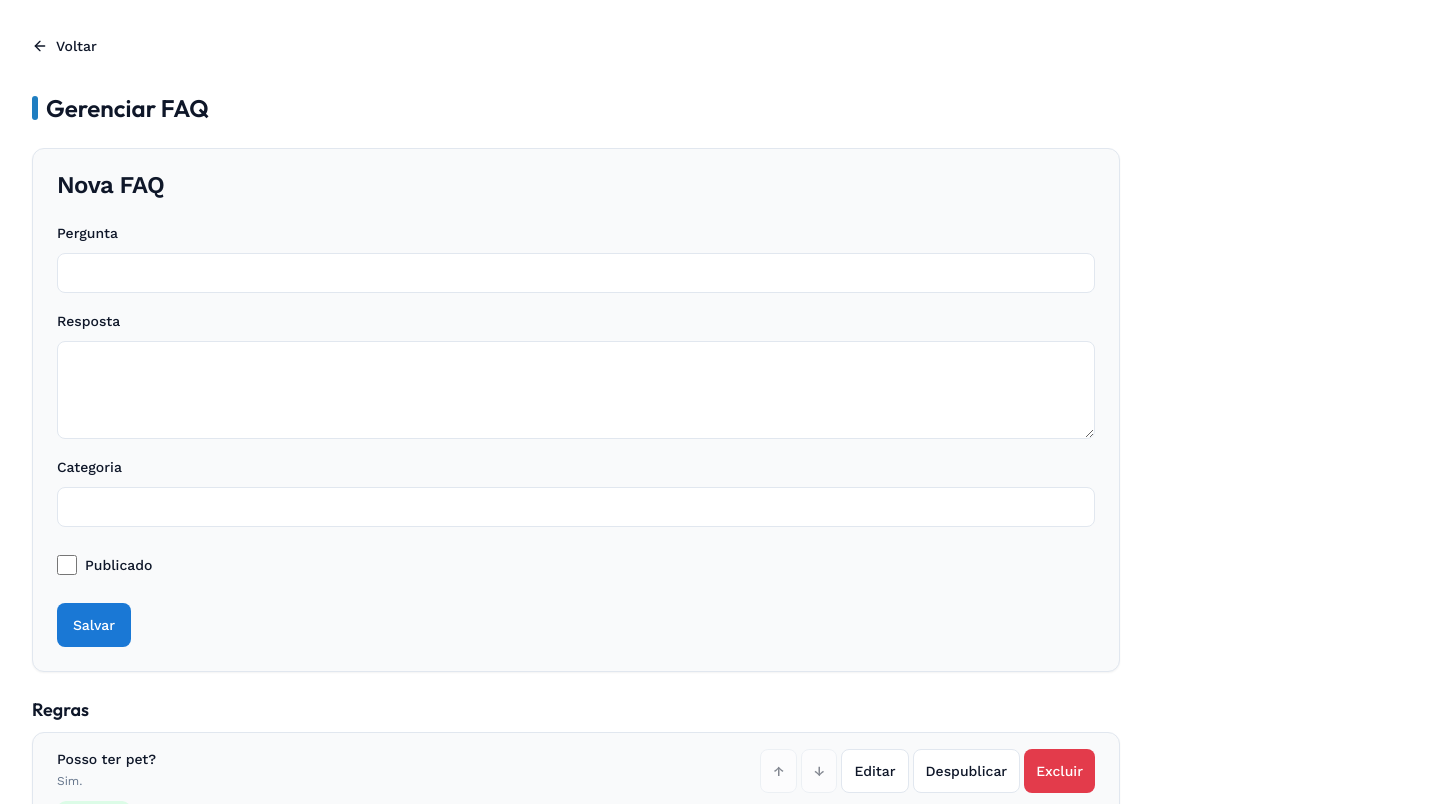
Test: FaqAdminPage › Editar preenche o formulário com os dados do item
The image size is (1440, 804).
expect the text "Posso ter pet?" is shown: met, box [57,751,156,767]
Step 1. Click the button "Editar" → (875,771), box [842,749,909,793]
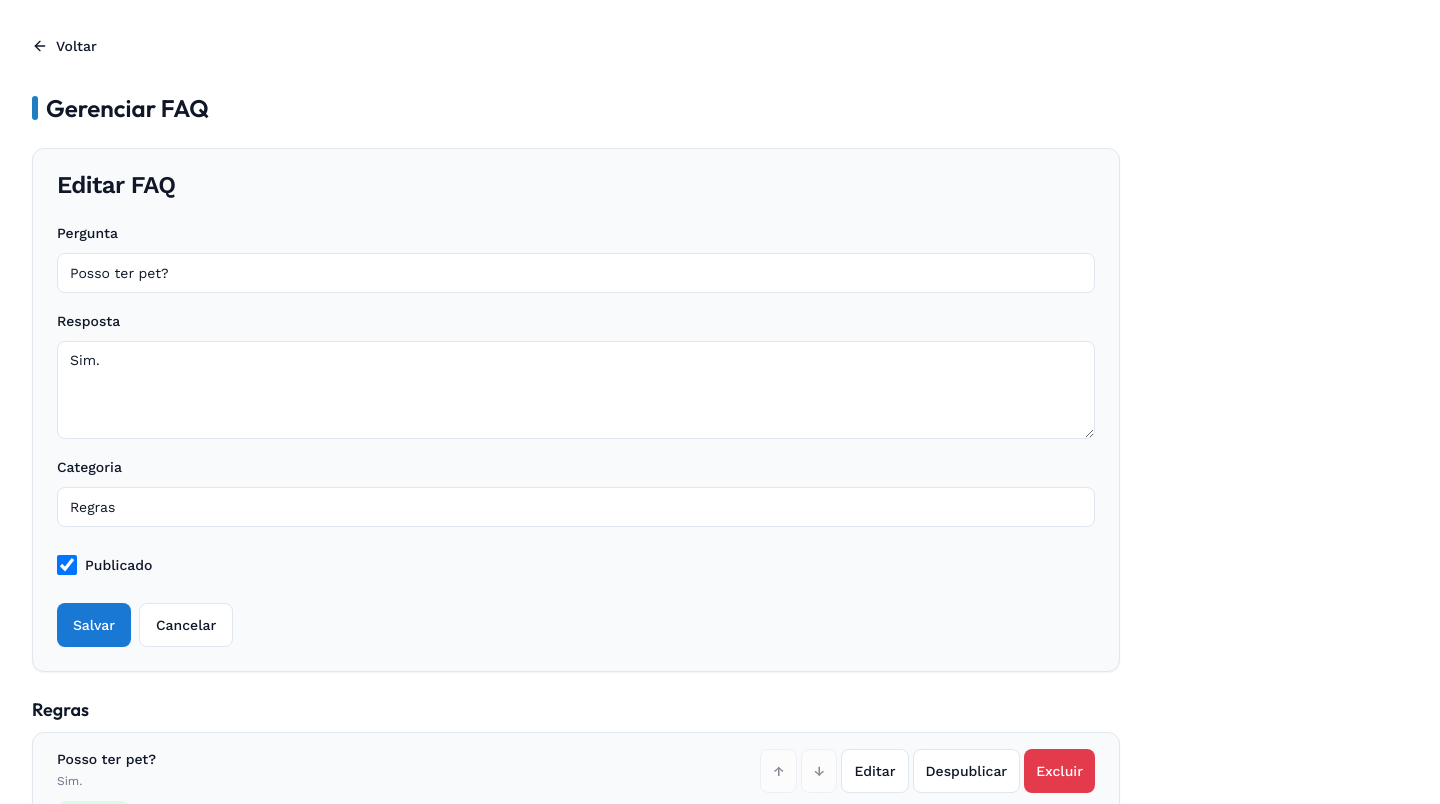
expect the field labelled "Pergunta" holds "Posso ter pet?": met, box [57,253,1095,293]
expect the text box labelled "Resposta" holds "Sim.": met, box [57,341,1095,439]
expect the field labelled "Categoria" holds "Regras": met, box [57,487,1095,527]
